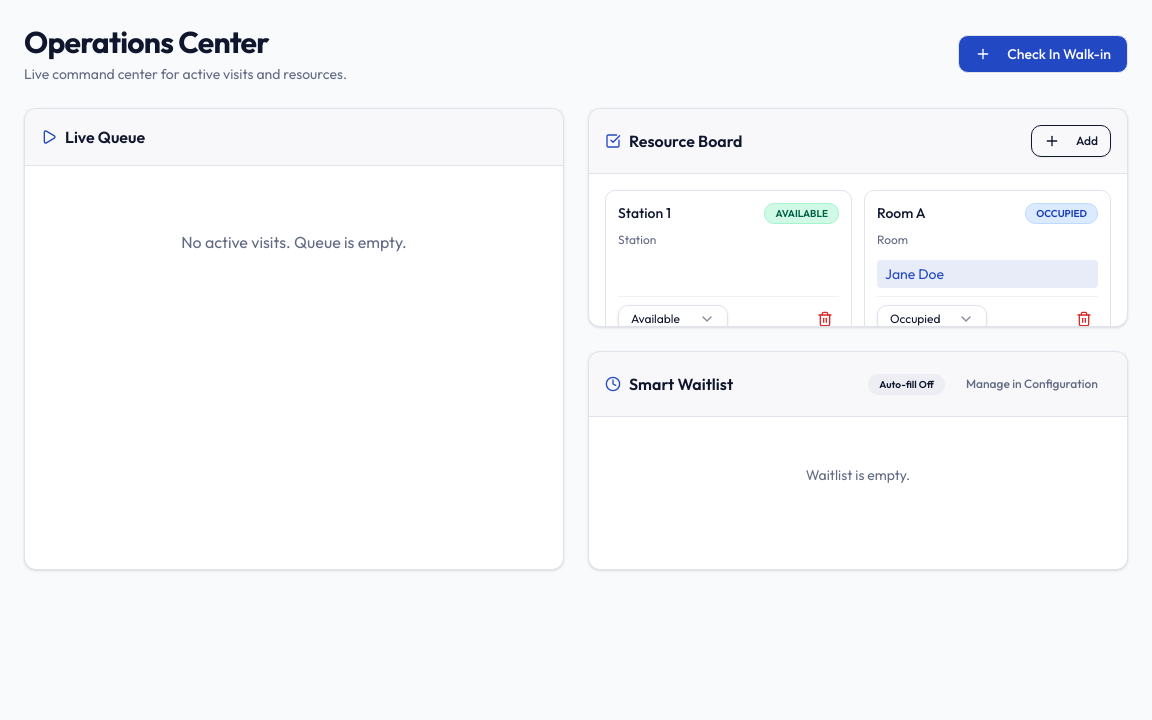
Scenario: Resource Board — delete button › cancel closes the dialog without deleting
Click the button with test id "btn-delete-resource-1".
click(825, 319)  # box [811,305,839,333]
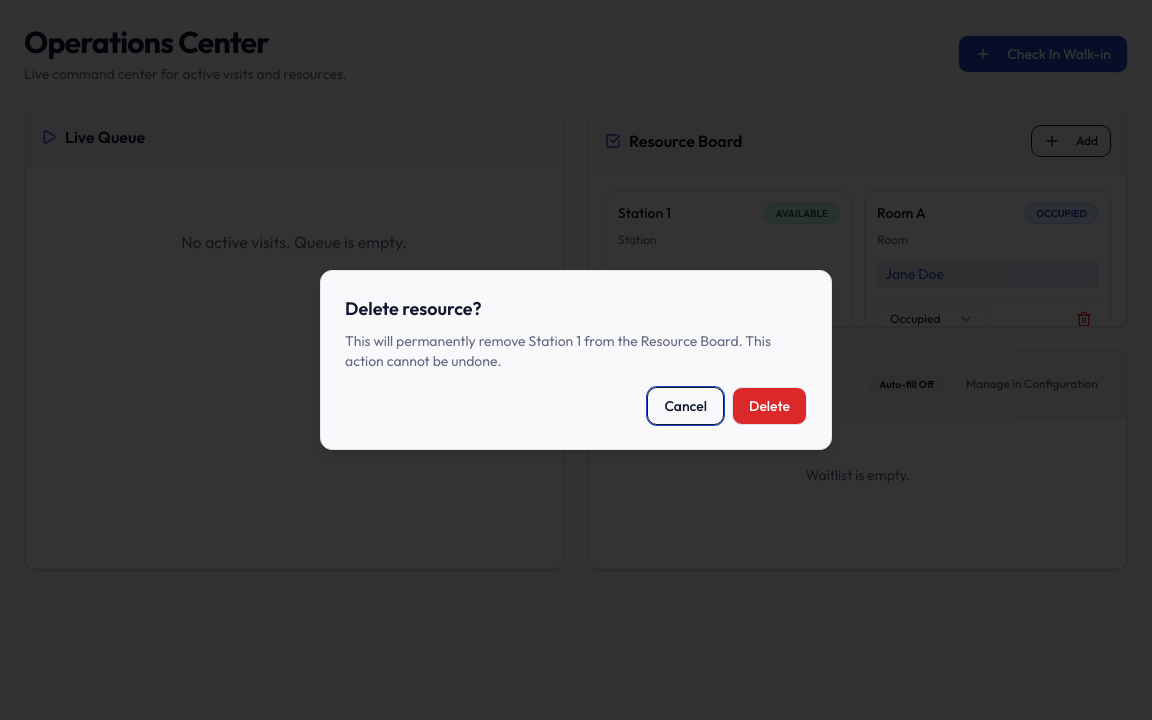
Click the button with test id "btn-cancel-delete-resource".
click(686, 406)  # box [647,387,724,425]
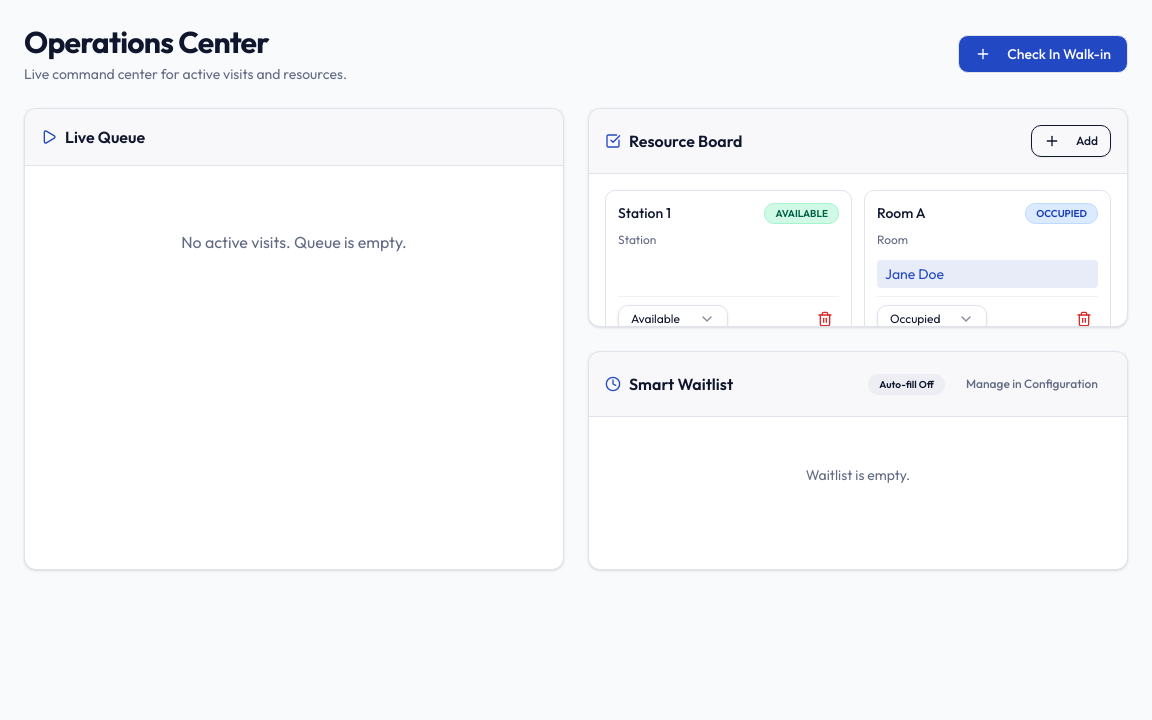
Expected: the button with test id "btn-confirm-delete-resource" is gone
